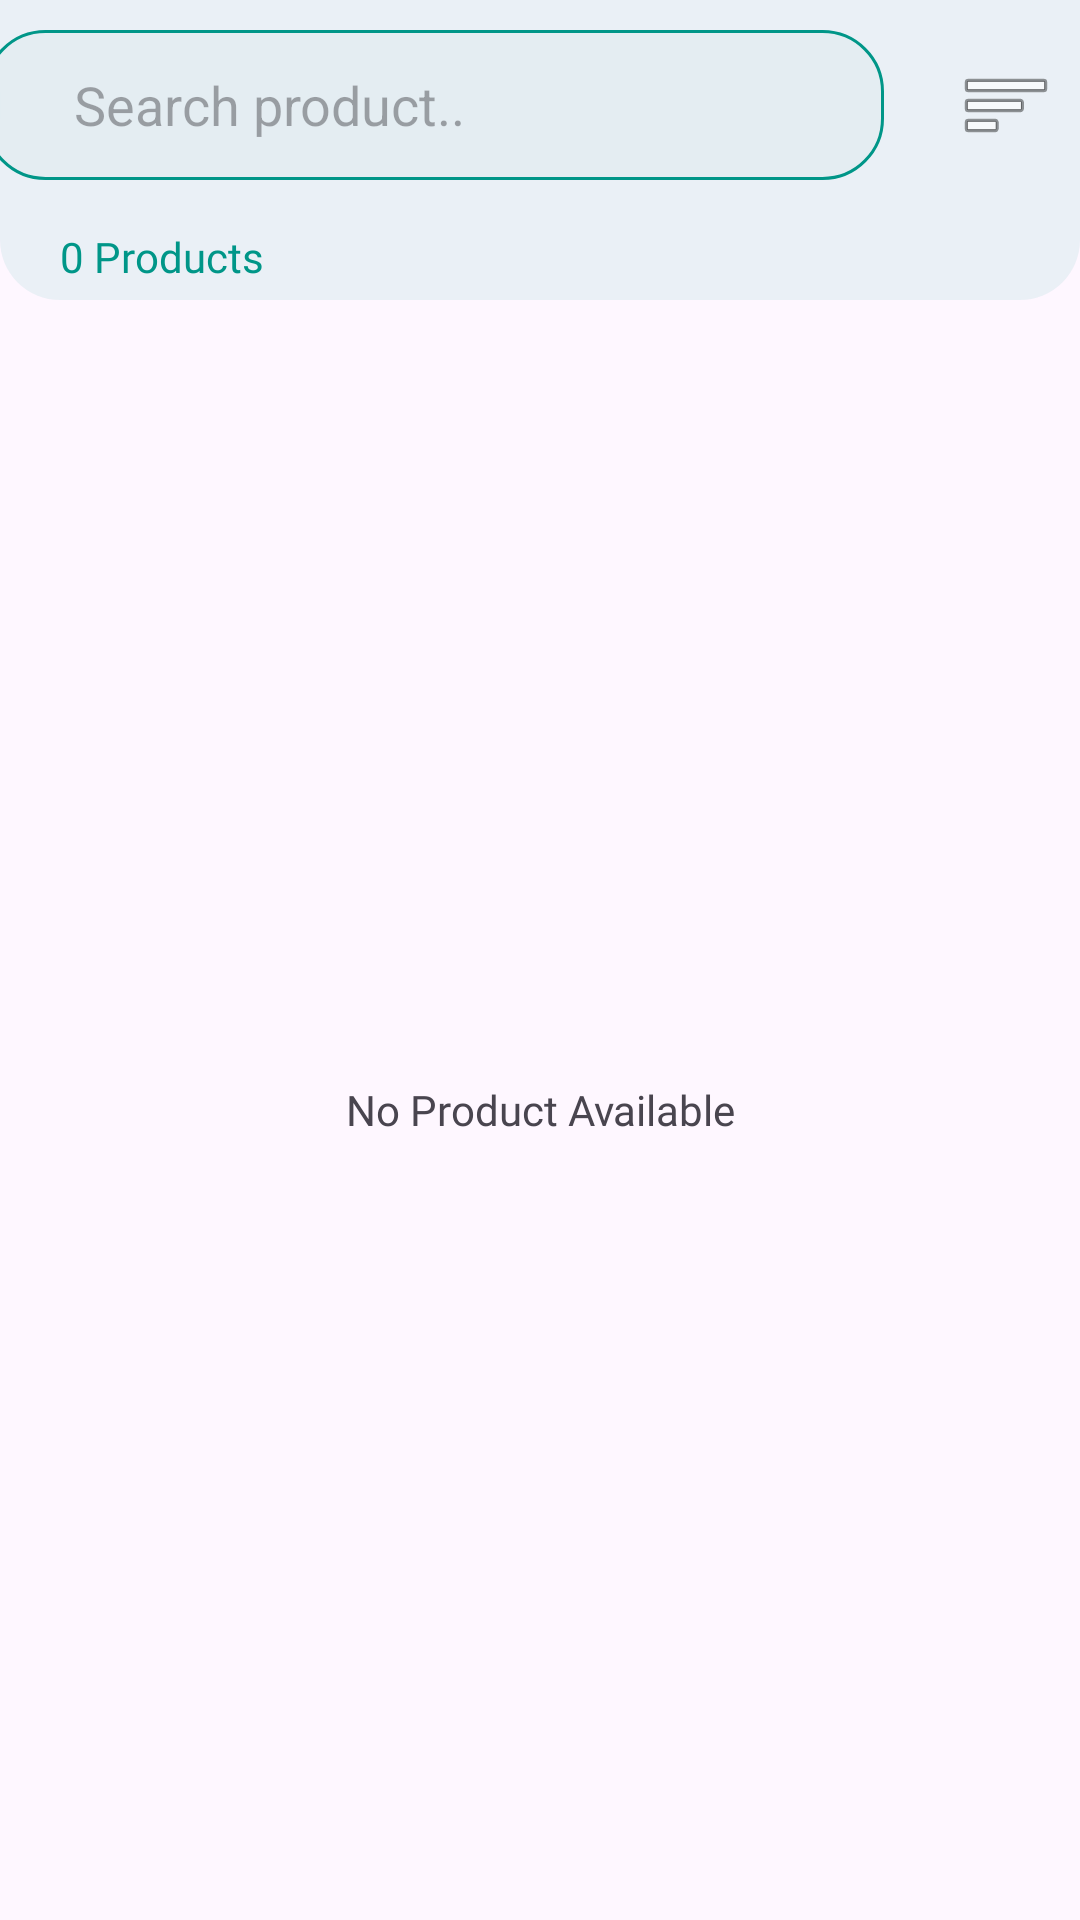

Icons on this 1080 x 1920 Android screen, each with the point to tap as (x=x, y=y):
sort by size: (x=1006, y=105)
